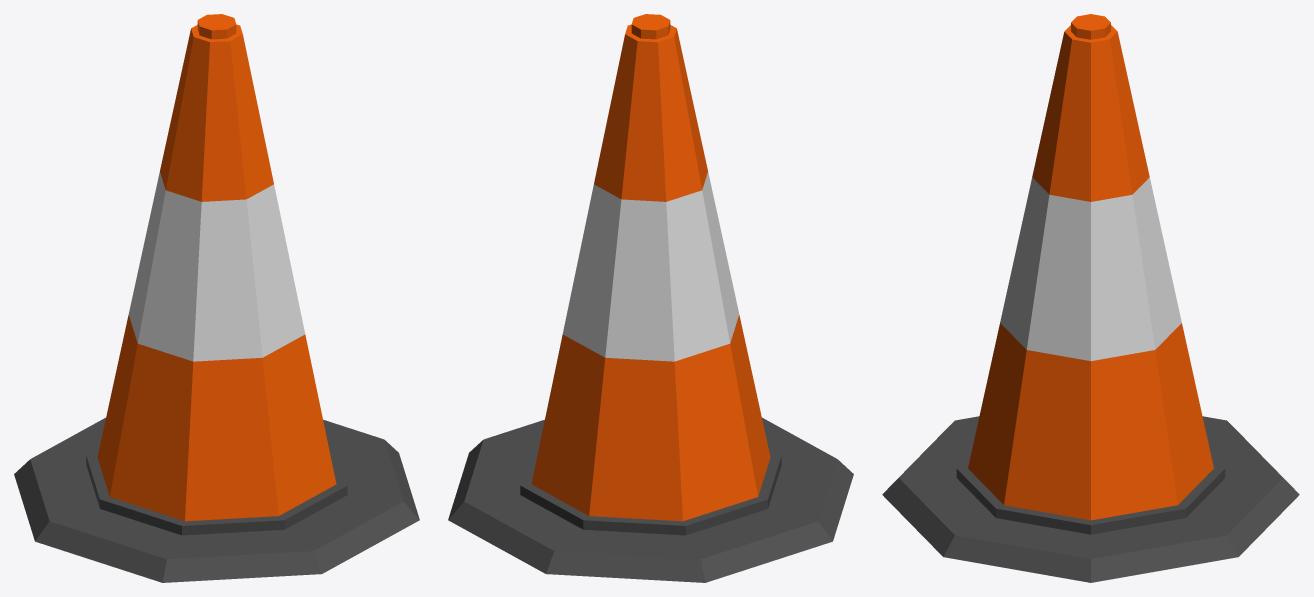
The model's file is traffic_cone.glb.
3 views of the same model, side by side, from view 1: azimuth 30°, elevation 25°; view 2: azimuth 150°, elevation 25°; view 3: azimuth 270°, elevation 25° (orthographic).
Visible parts, largest first — view 1: Cylinder; view 2: Cylinder; view 3: Cylinder.
Boxes of the visible parts, left/top/right/bottom form: Cylinder: left=14, top=14, right=419, bottom=582; Cylinder: left=448, top=14, right=853, bottom=582; Cylinder: left=882, top=14, right=1299, bottom=582.
Size of the model in its own units: 2 by 2.49 by 2.
